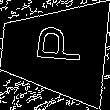P_W: (25, 30, 82, 72)
